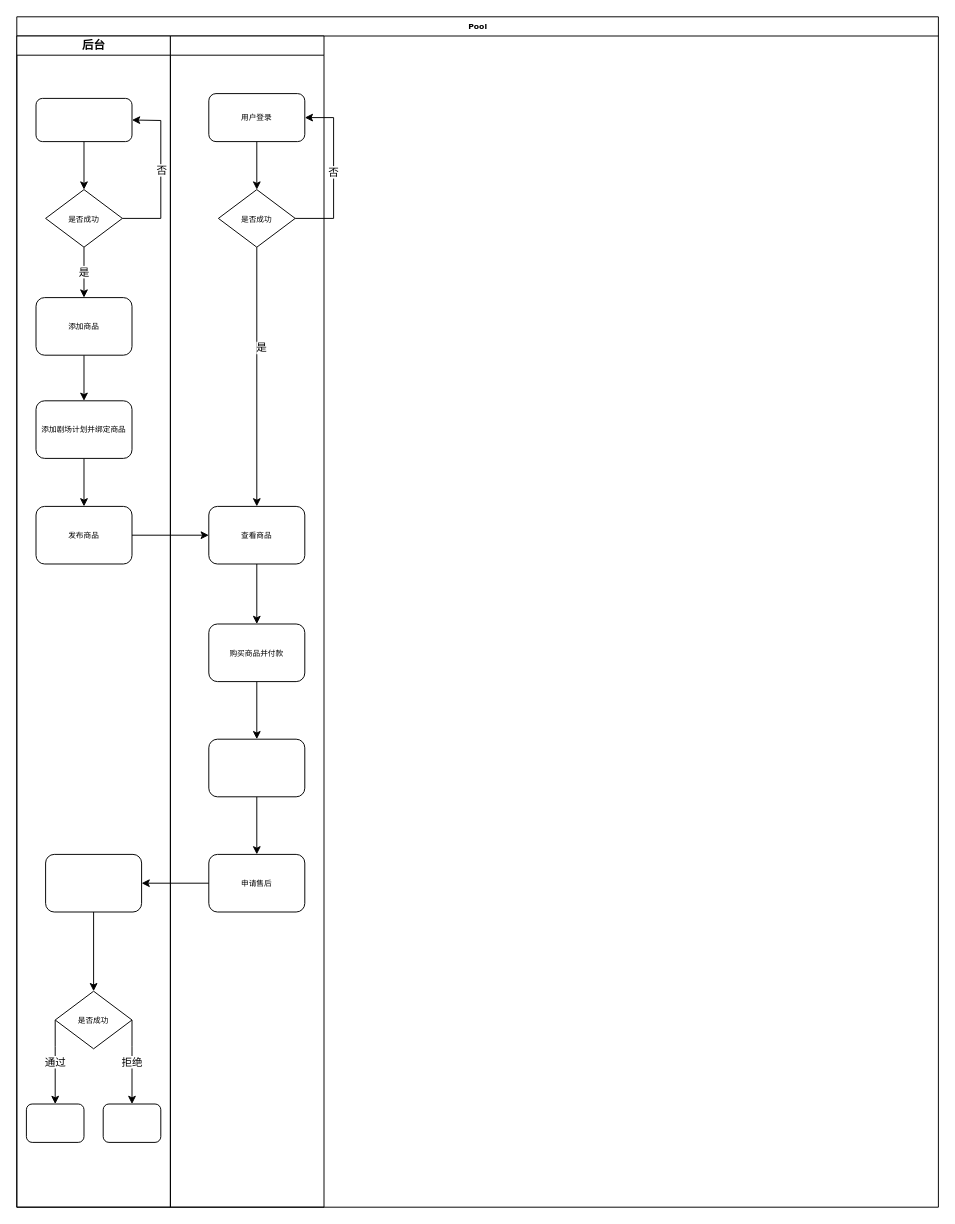
Some shapes in this 955 by 1224 pixel diagram are drawn without their labels. The box of each missing label's shape, as (x1, y1, x2, y2) in pixels:
原路退款: (25, 1103, 84, 1142)
反馈拒绝原因: (102, 1103, 161, 1142)
小程序: (169, 35, 324, 1207)
查看订单: (208, 738, 305, 797)
管理员审核: (45, 853, 142, 912)
管理员登录: (35, 97, 132, 142)
